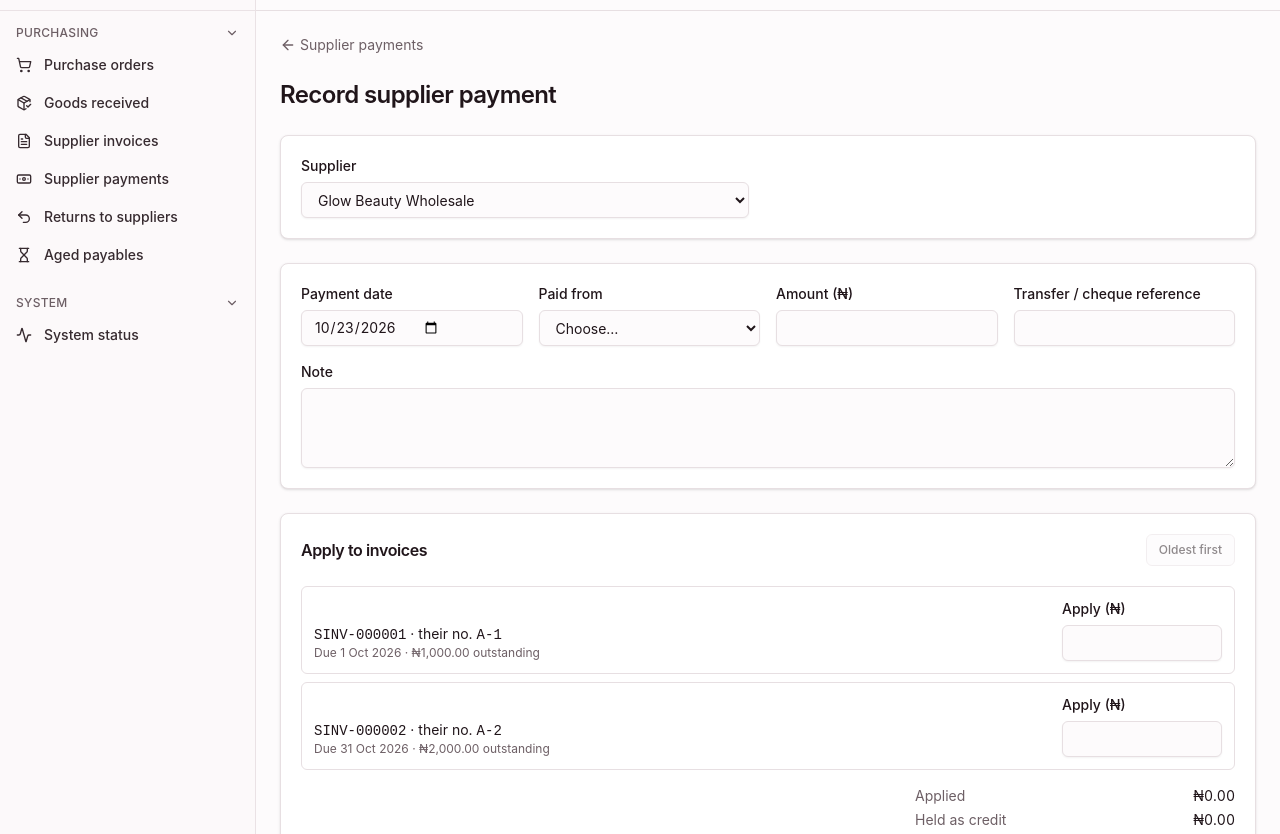
supplier payment form › rejects allocations larger than the payment
Select "Bank" in the dropdown labelled "Paid from". click: (649, 328)
box: [538,310,760,346]
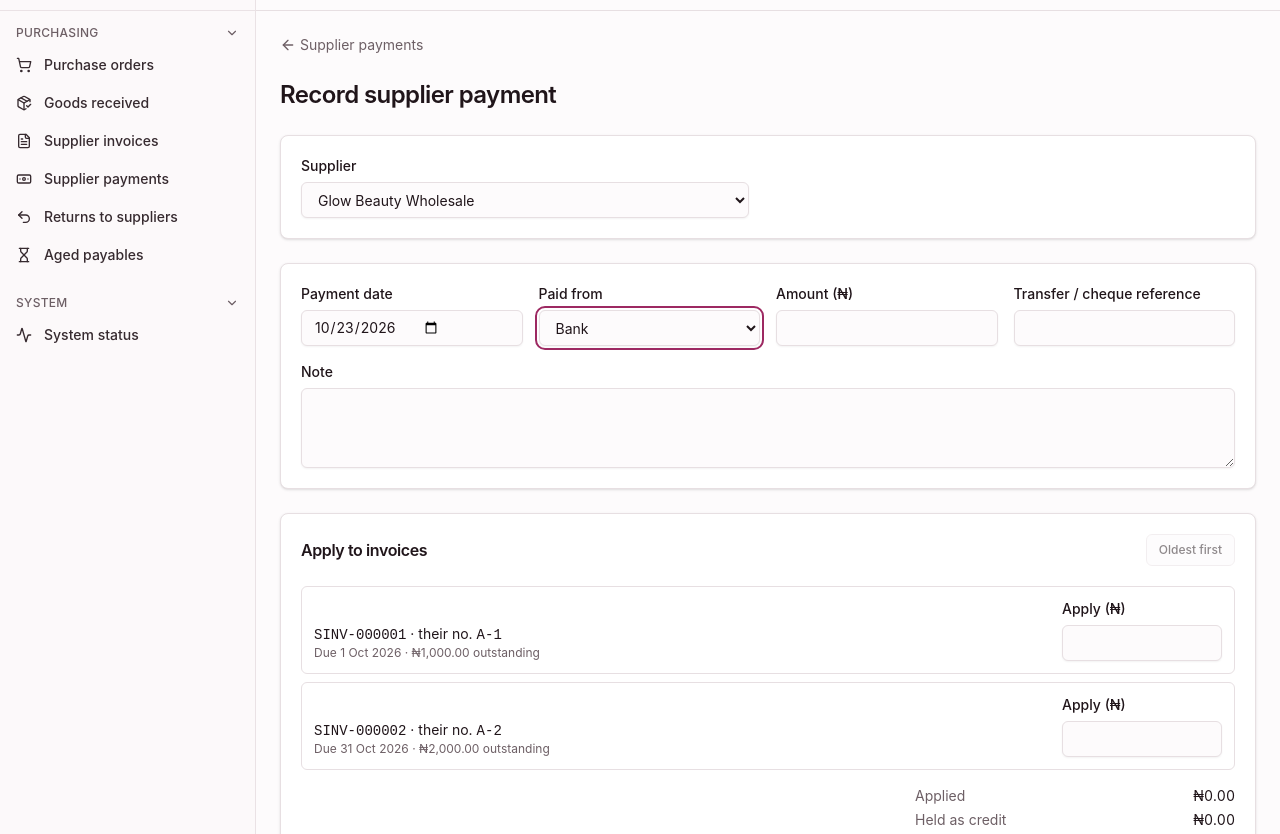
Type "100" into the field labelled "Amount (₦)". click: (887, 328)
box: [776,310,998,346]
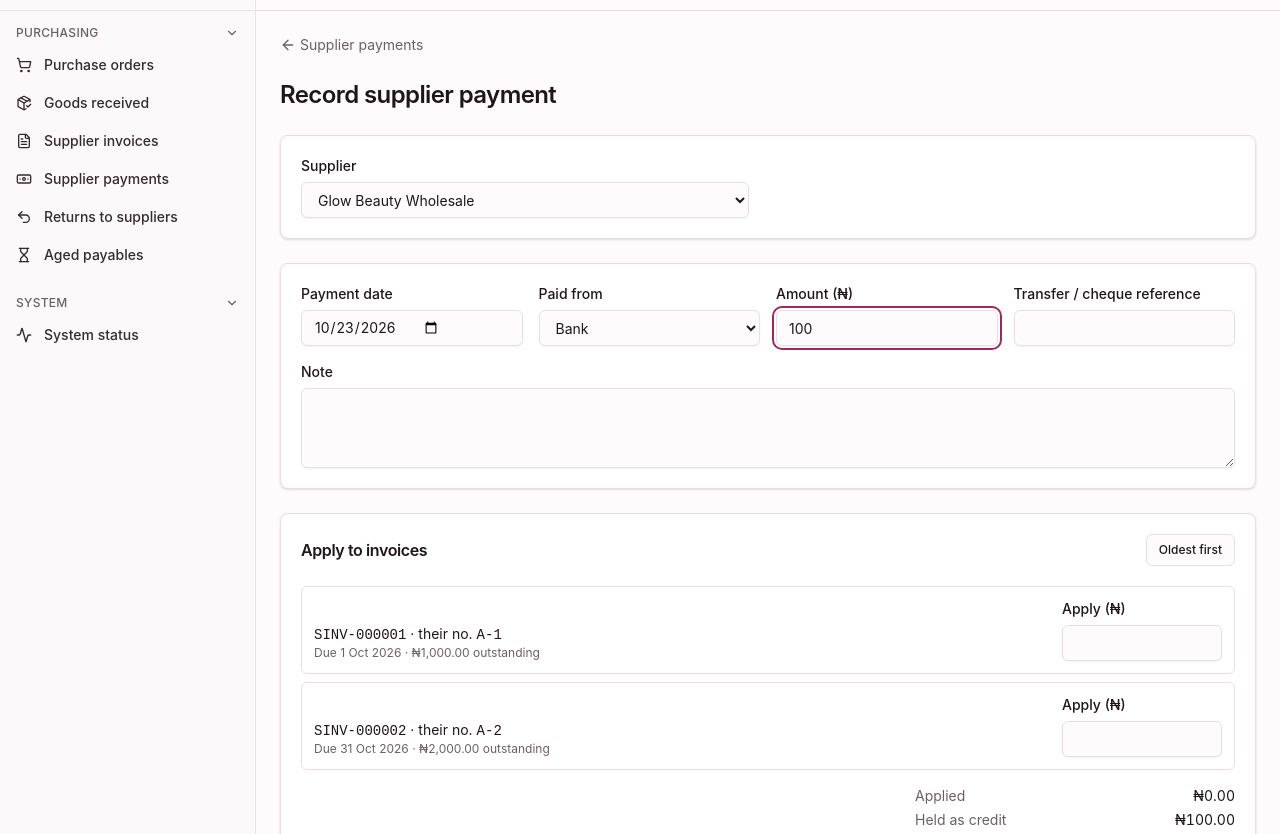
Type "1000" into the field labelled "Apply (₦)" in the row of "A-1". click: (1142, 643)
box: [1062,625,1222,661]
(page scrolled)
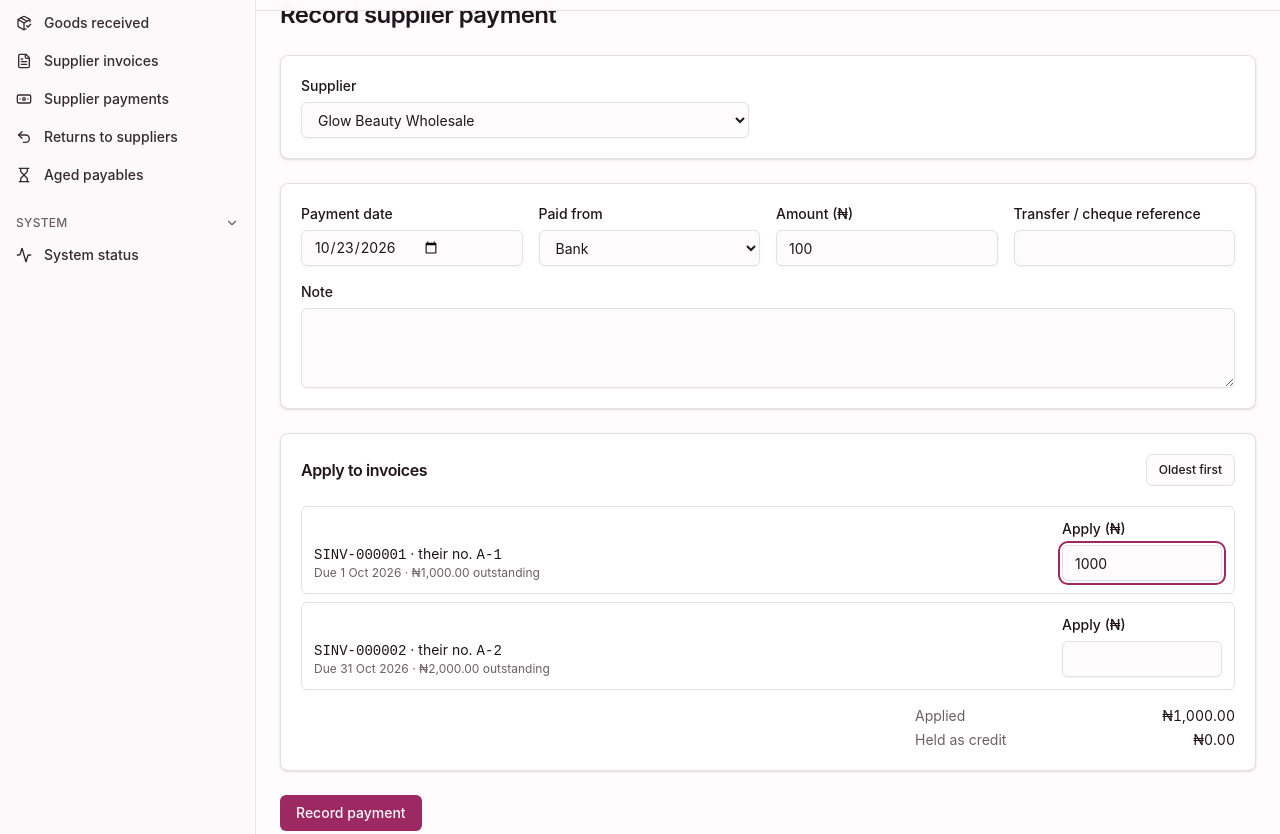
Click the button "Record payment". click: (351, 813)
box: [280,795,422,831]
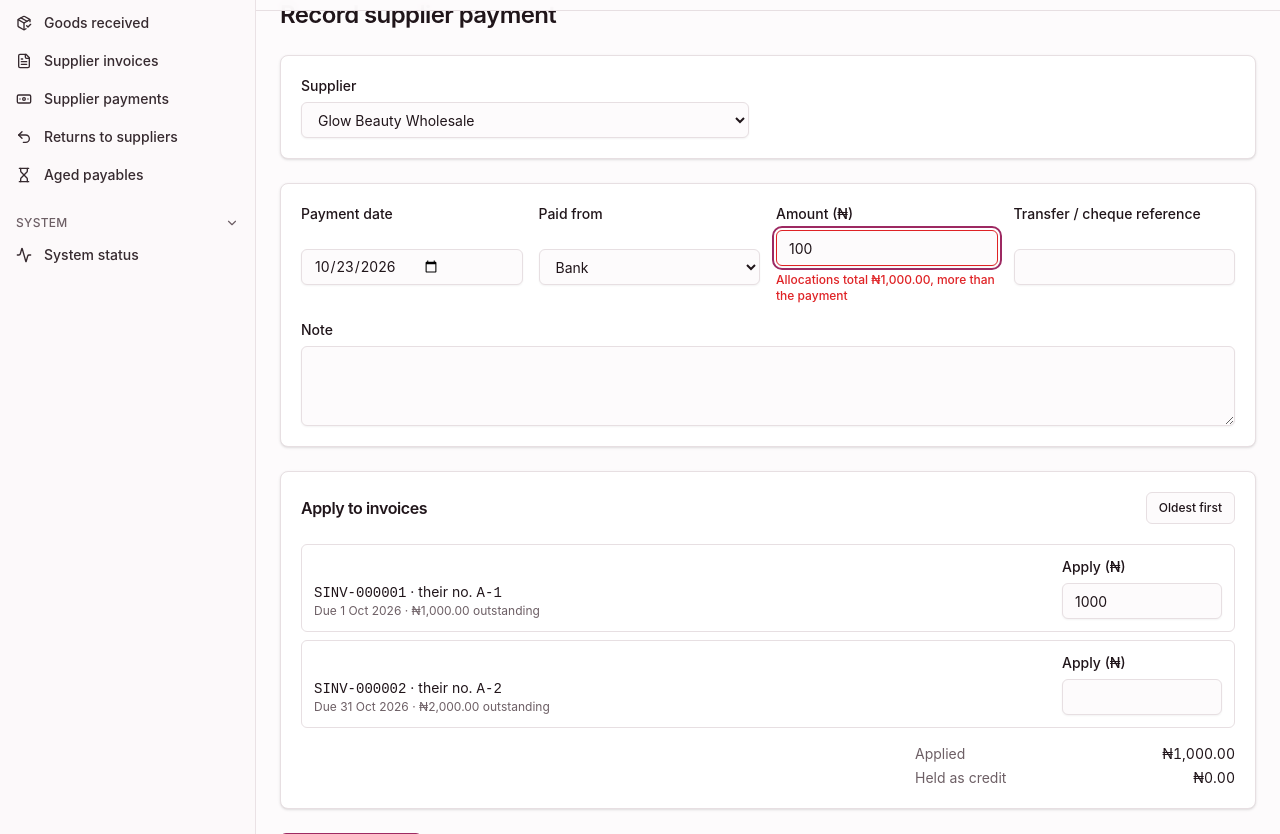
Expected: the text "Allocations total ₦1,000.00, more than the payment" is shown, [776,272,998,304]
